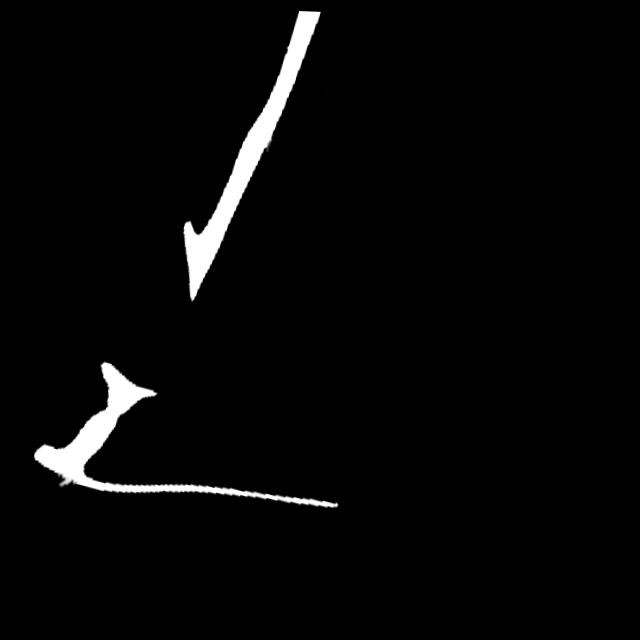sup_pli: (61, 470, 83, 491)
